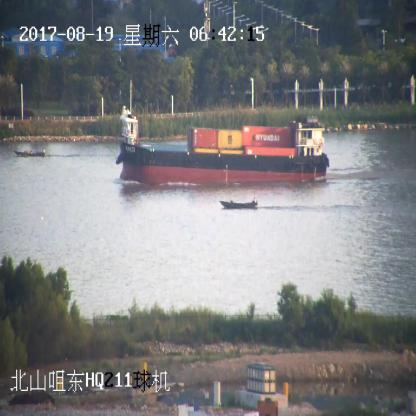Fishing Boat: (219, 197, 258, 211), (14, 148, 46, 158)
